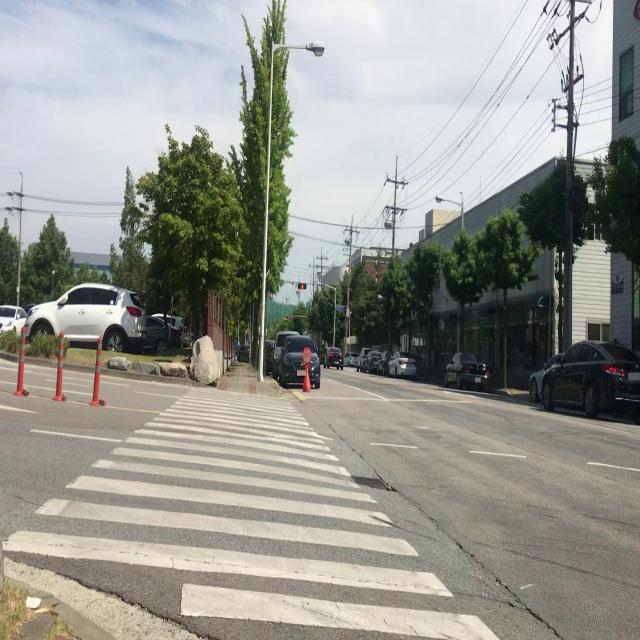횡단보도: (0, 384, 502, 640)
